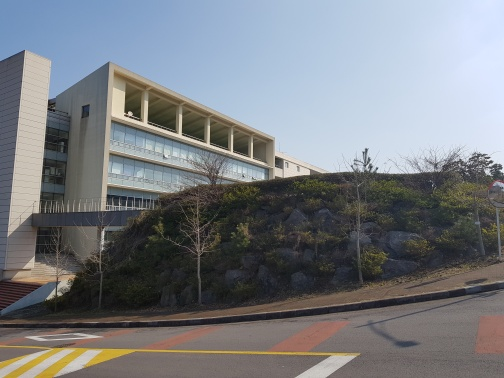Engineering College Building 4: (5, 62, 328, 322), (16, 83, 270, 184)
